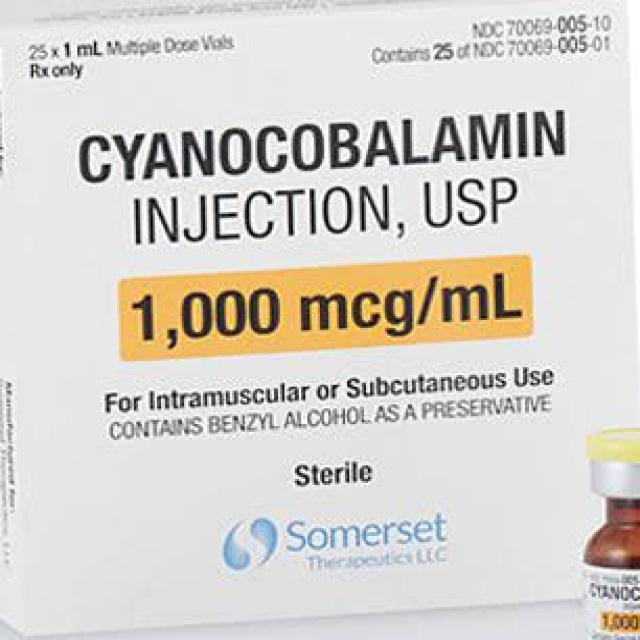drug-name: (76, 100, 574, 196)
